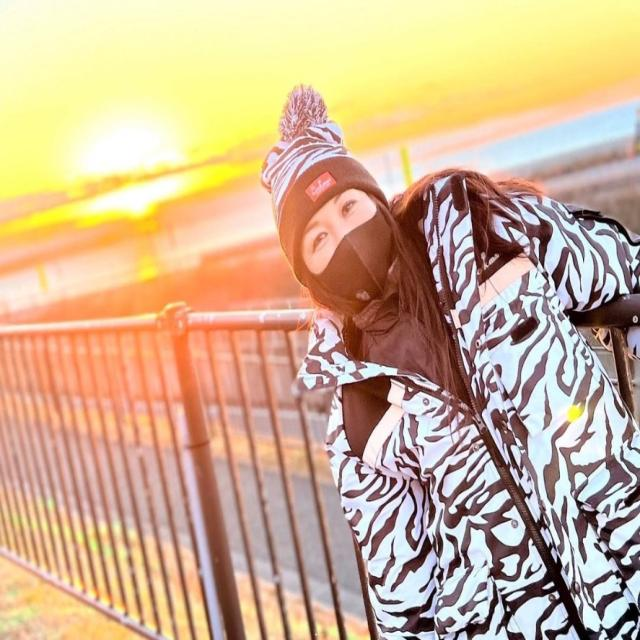illegal_helmet: (256, 80, 402, 312)
